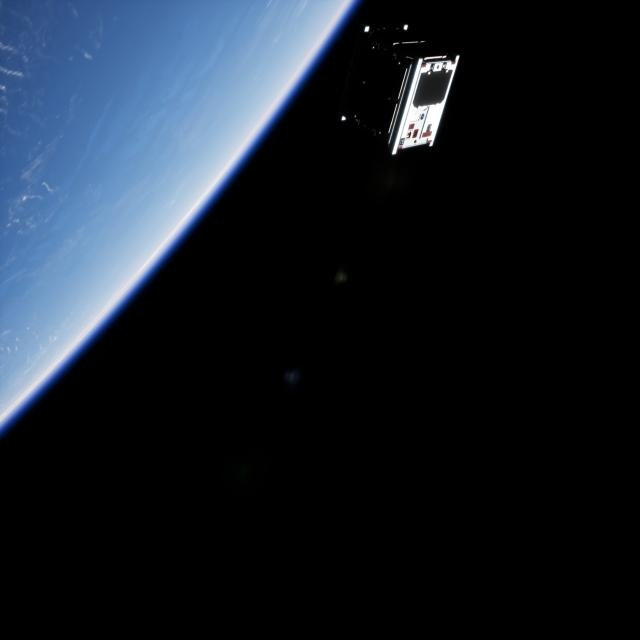medium_debris: (330, 14, 466, 156)
